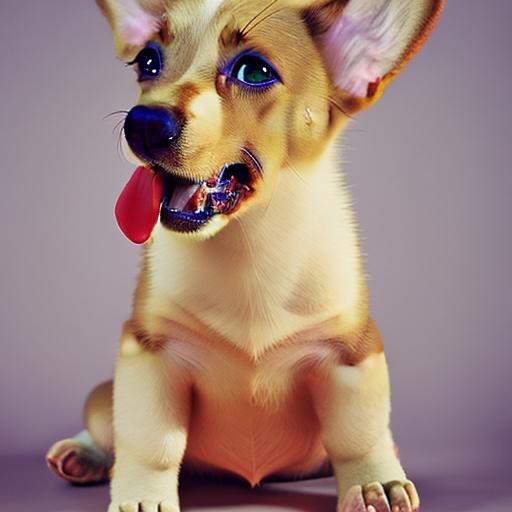eye: (217, 49, 289, 96), (128, 44, 172, 83)
